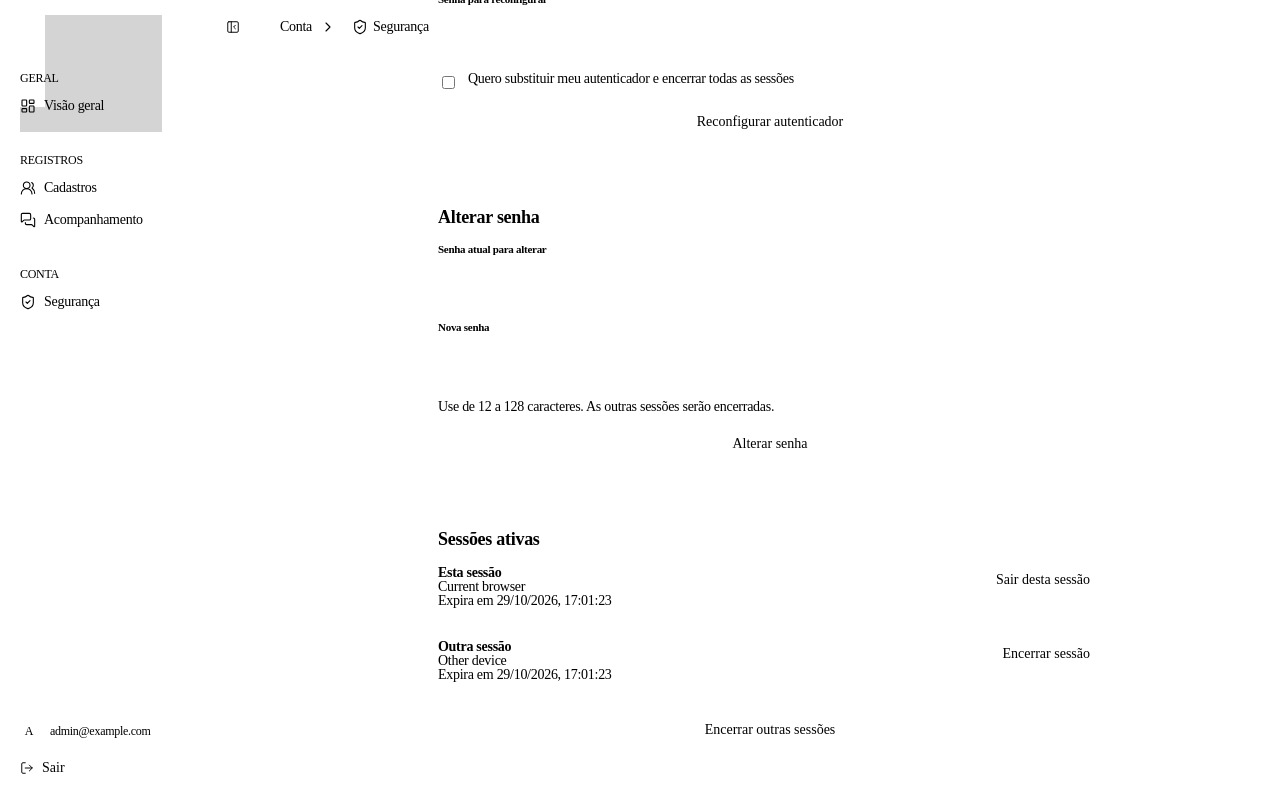
Test: administrative workflow › revokes an individually selected session, refreshes the list and signs out the current session
(page scrolled)
Expected: the text "Other device" is shown, [438,653,507,668]
Click the button "Encerrar sessão" at (1046, 654), box [990,640,1102,668]
(page scrolled)
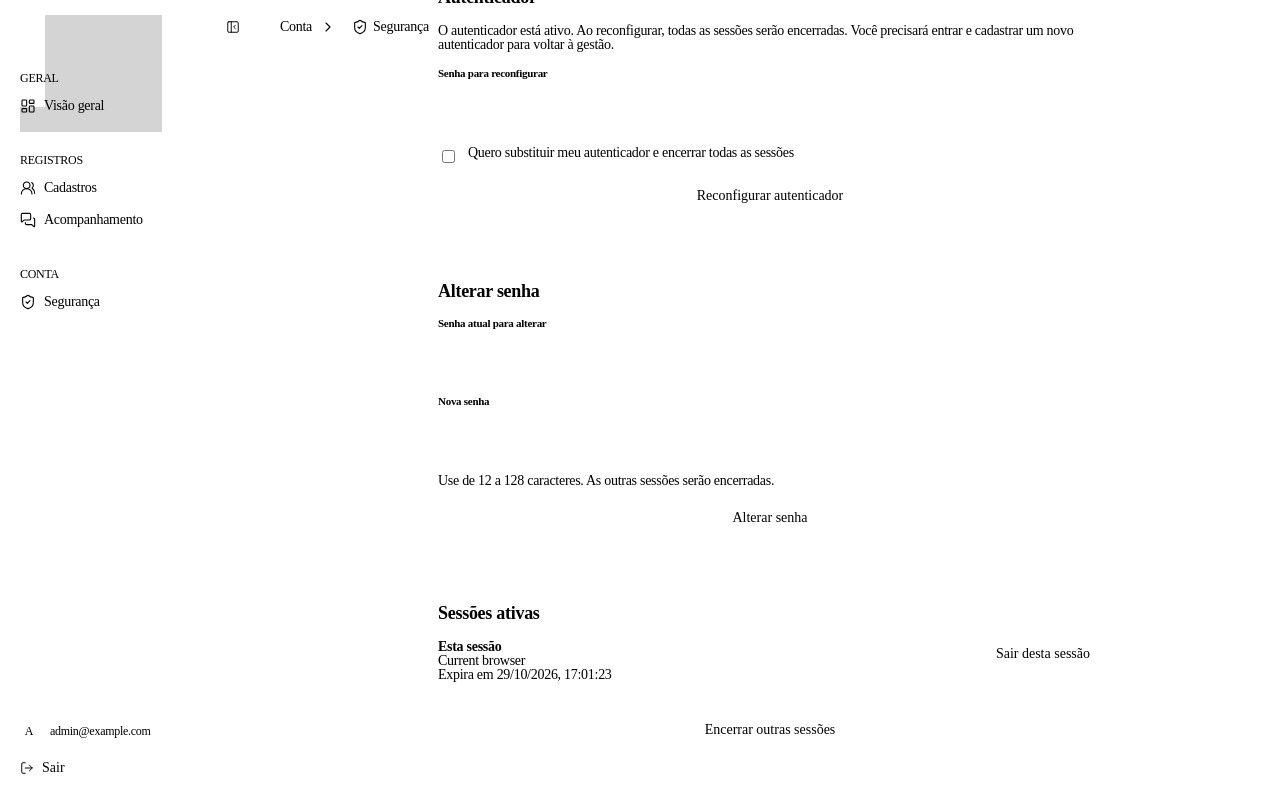
Expected: the text "Current browser" is shown, [438,653,525,668]
Expected: the text "Other device" is gone
Click the button "Sair desta sessão" at (1043, 654), box [984,640,1102,668]
(page scrolled)
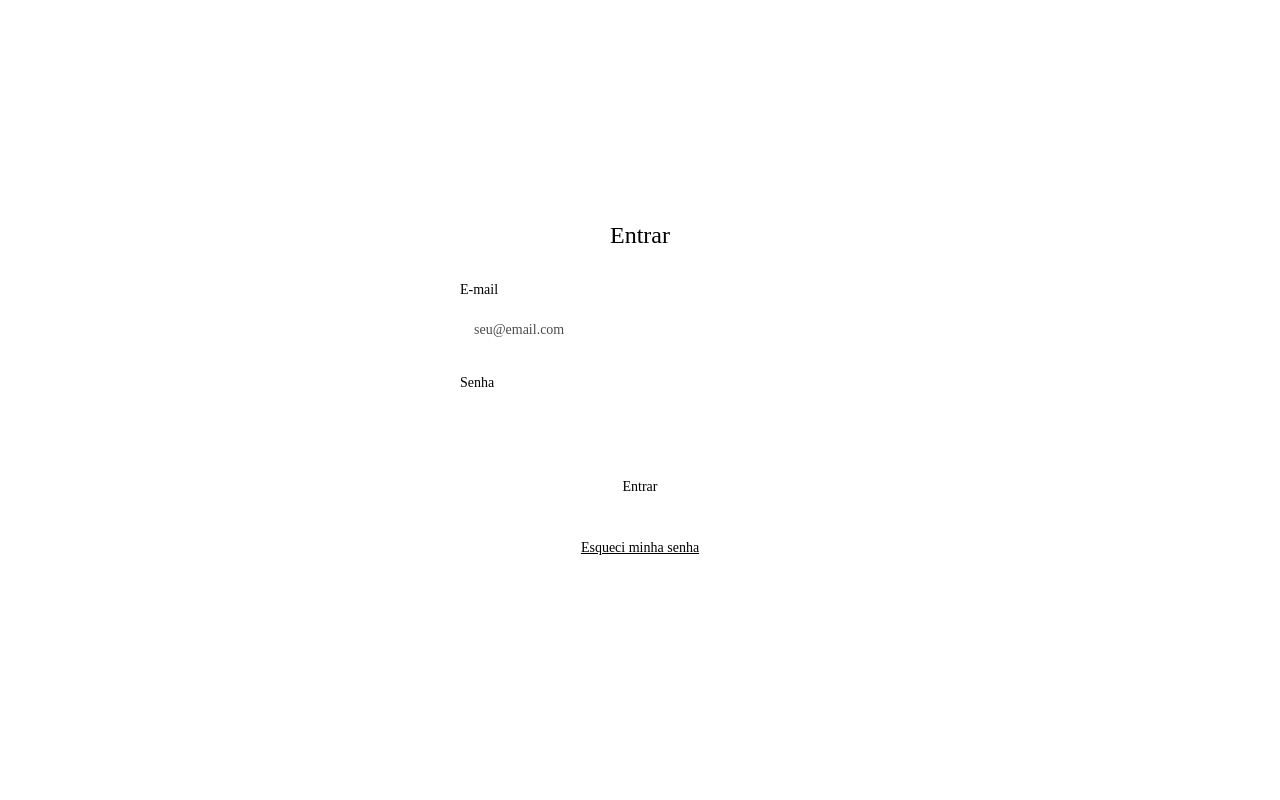
Expected: the text "Current browser" is gone
